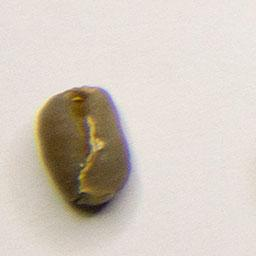peaberry: (33, 82, 134, 210)
